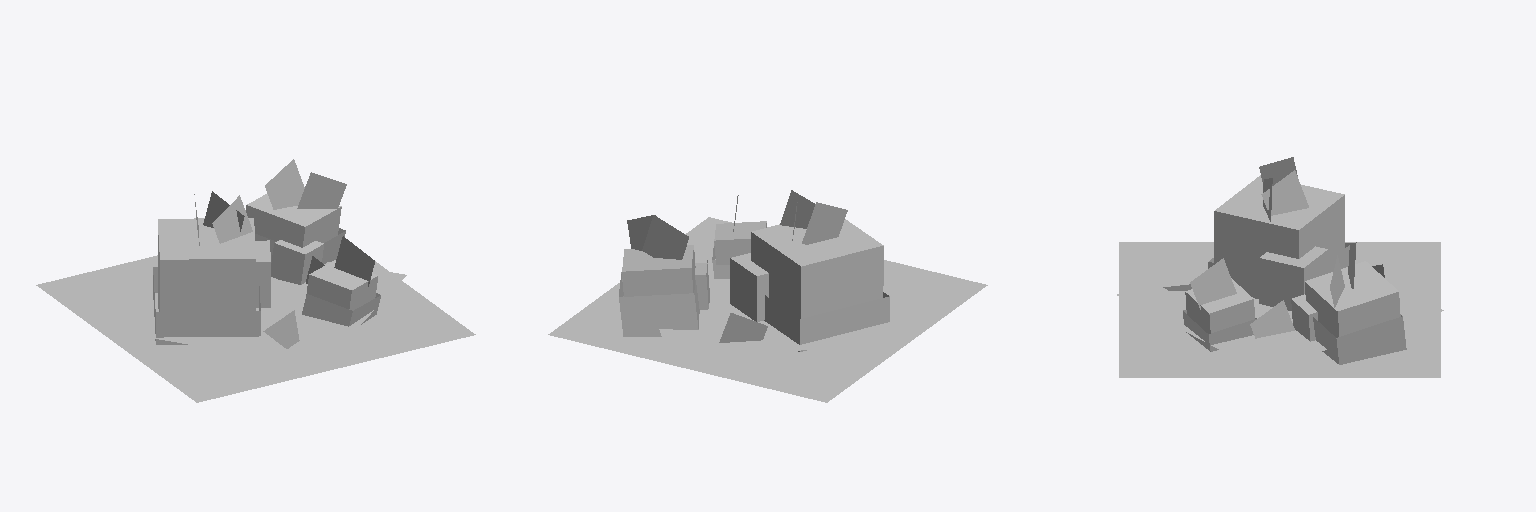
File: melons.obj
3 renders of one model, left to right at view 1: azimuth 30°, elevation 25°; view 2: azimuth 150°, elevation 25°; view 3: azimuth 270°, elevation 25°, orthographic.
Parts seen in each view (by area): view 1: Cube; view 2: Cube; view 3: Cube.
Boxes of the visible parts, box(x1,y1,x2,y2) form: Cube: box(36, 159, 475, 402); Cube: box(548, 190, 987, 402); Cube: box(1117, 157, 1443, 377).
Size of the model in its own units: 3.85 by 1.87 by 3.85.